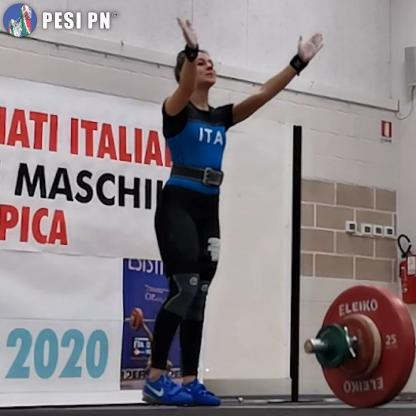barbell: (320, 285, 409, 410)
